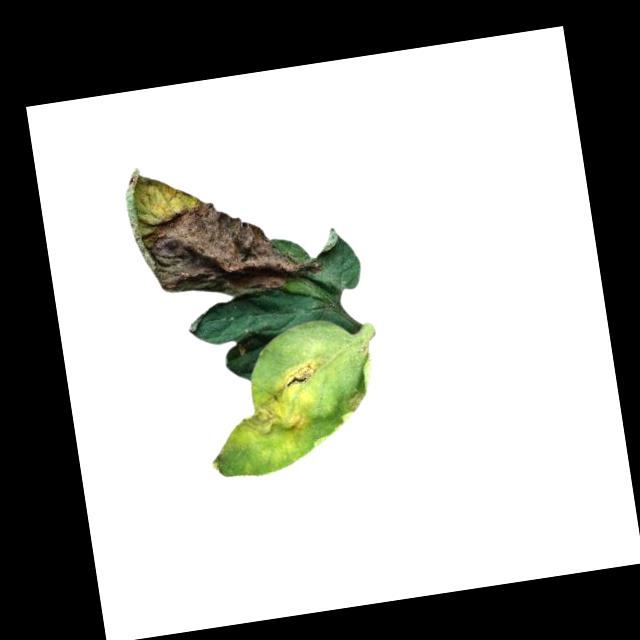Late_blight: (119, 139, 330, 313), (229, 358, 332, 446), (339, 388, 367, 417)
